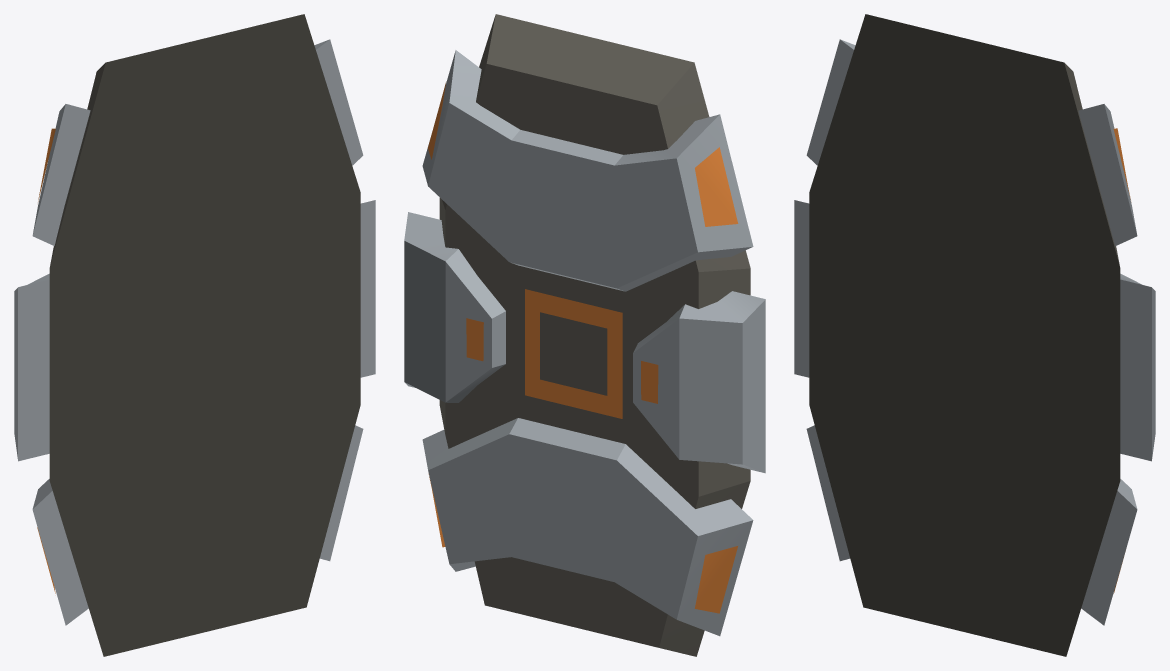
File: Army2_dun3.FBX
3 renders of one model, left to right at view 1: azimuth 30°, elevation 25°; view 2: azimuth 150°, elevation 25°; view 3: azimuth 330°, elevation 25°, orthographic.
Visible parts, largest first — view 1: Box006; view 2: Box006; view 3: Box006.
Boxes of the visible parts, box(x1,y1,x2,y2) form: Box006: box(14, 14, 375, 656); Box006: box(404, 14, 765, 656); Box006: box(794, 14, 1155, 656).
Size of the model in its own units: 29.64 by 4.75 by 47.05.
